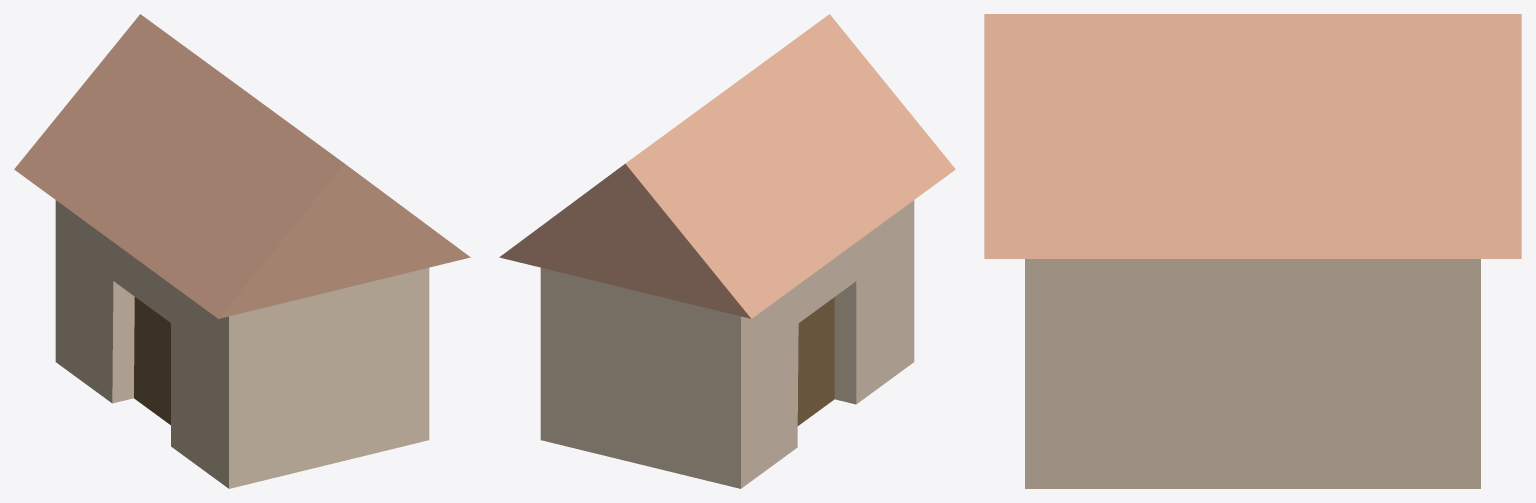
Rendered from house.glb.
3 renders of one model, left to right at view 1: azimuth 30°, elevation 25°; view 2: azimuth 150°, elevation 25°; view 3: azimuth 270°, elevation 25°, orthographic. The views are drawn at different scales.
Visible parts, largest first — view 1: Box001; view 2: Box001; view 3: Box001.
Part boxes in pixels (x1=…): Box001: x1=14, y1=14, x2=470, y2=488; Box001: x1=499, y1=14, x2=955, y2=488; Box001: x1=984, y1=14, x2=1521, y2=488.
Size of the model in its own units: 0.0757 by 0.0895 by 0.1061.
